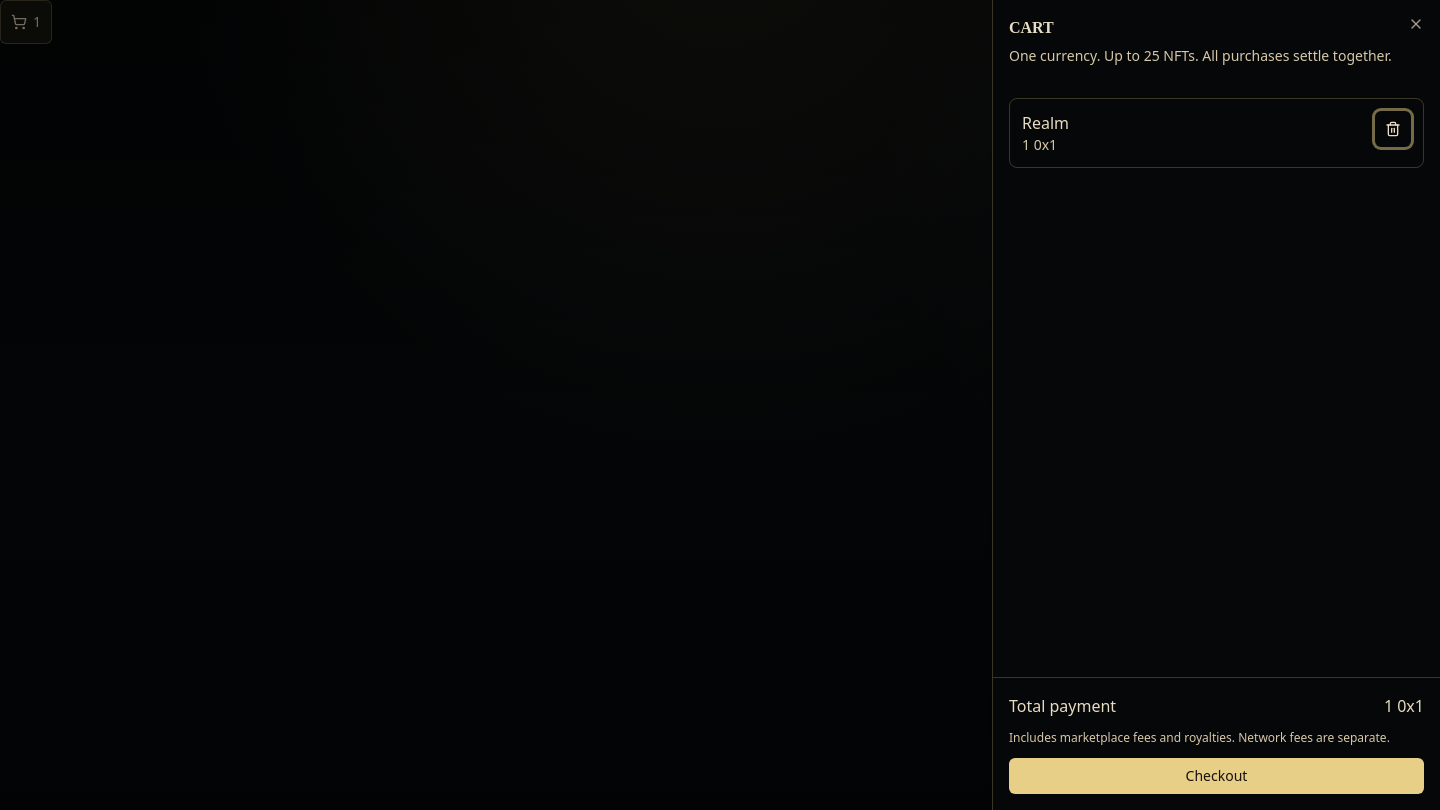
Test: allows removing an unavailable item
The width and height of the screenshot is (1440, 810).
Click the button named "Remove Realm" at (1393, 129), box 1375,111 -> 1411,147
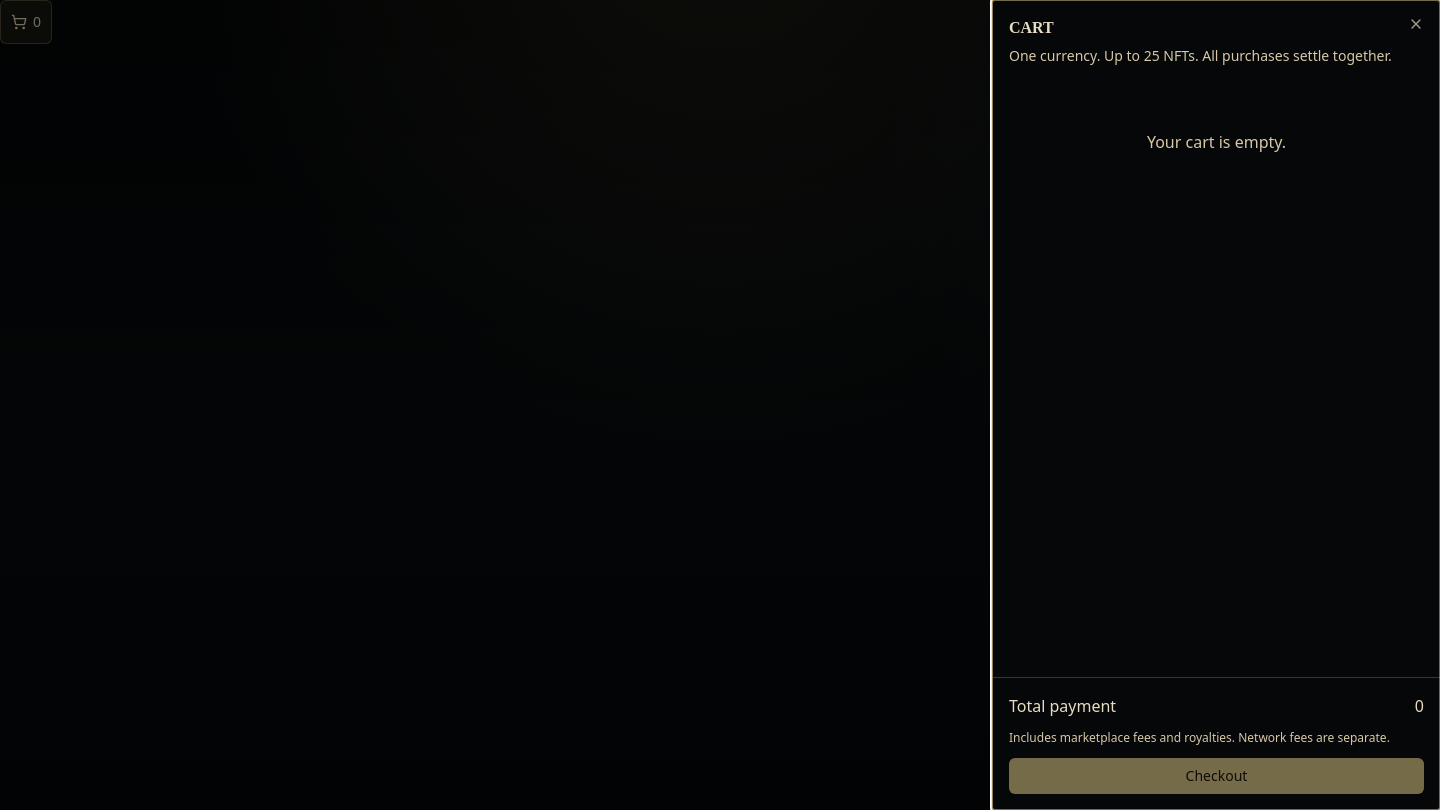
Expected: the text "Your cart is empty." is shown, 1147,131 -> 1286,153
